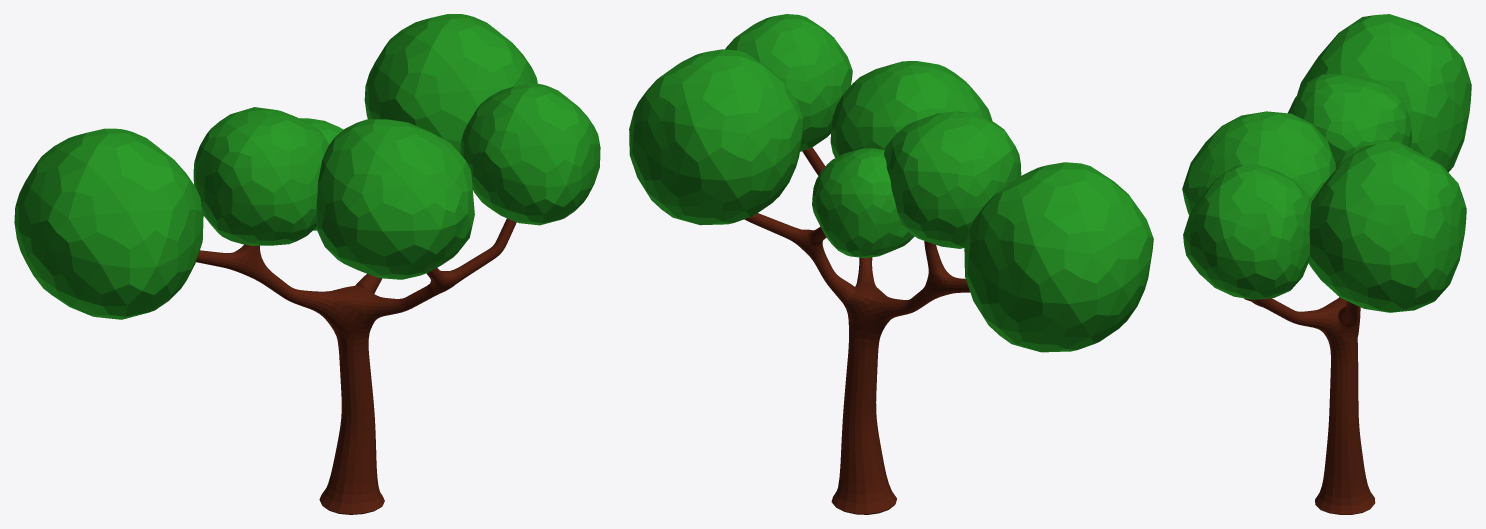
File: tree-low-poly.glb
The picture shows the model from 3 angles, left to right: view 1: azimuth 30°, elevation 25°; view 2: azimuth 150°, elevation 25°; view 3: azimuth 270°, elevation 25°; orthographic projection. The views are drawn at different scales.
Parts seen in each view (by area): view 1: Icosphere.001; view 2: Icosphere.001; view 3: Icosphere.001.
Part boxes in pixels (<box>): Icosphere.001: <box>14,14,600,514</box>; Icosphere.001: <box>629,14,1153,514</box>; Icosphere.001: <box>1182,14,1471,514</box>.
Bounding box in the file's own units: 11.65 × 9.69 × 6.21.
Materials: 1 (1 with a texture image).
